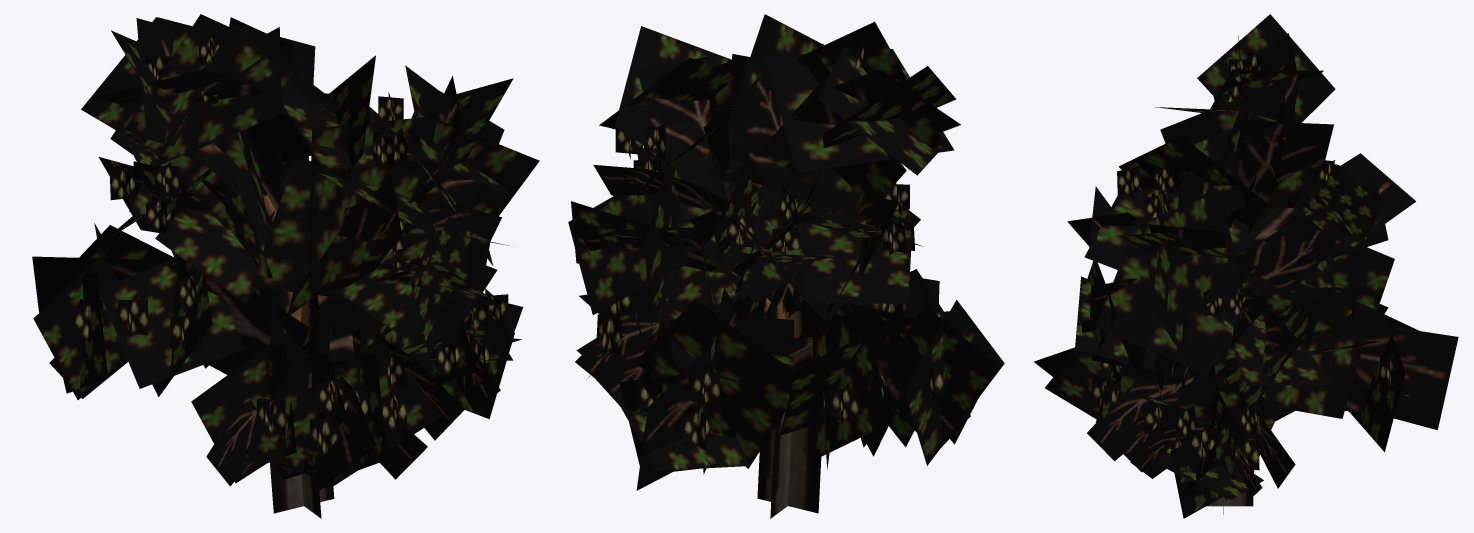
File: Mänty_1.fbx
3 views of the same model, side by side, from view 1: azimuth 30°, elevation 25°; view 2: azimuth 150°, elevation 25°; view 3: azimuth 270°, elevation 25° (orthographic). The views are drawn at different scales.
Visible parts, largest first — view 1: Mänty; view 2: Mänty; view 3: Mänty.
Part boxes in pixels (x1,y1,x2,y2): Mänty: [32, 14, 539, 518]; Mänty: [568, 14, 1004, 518]; Mänty: [1034, 14, 1458, 518].
Size of the model in its own units: 1492 by 1607 by 1429.
1 material, 1 textured.
